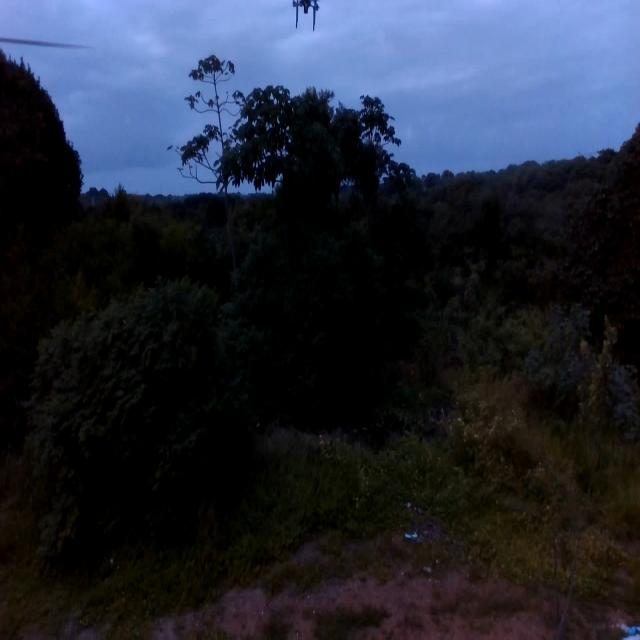-uav-: (286, 0, 322, 40)
